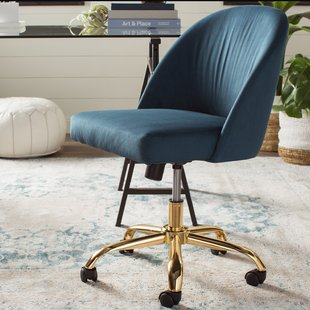chairs: (69, 3, 289, 309)
